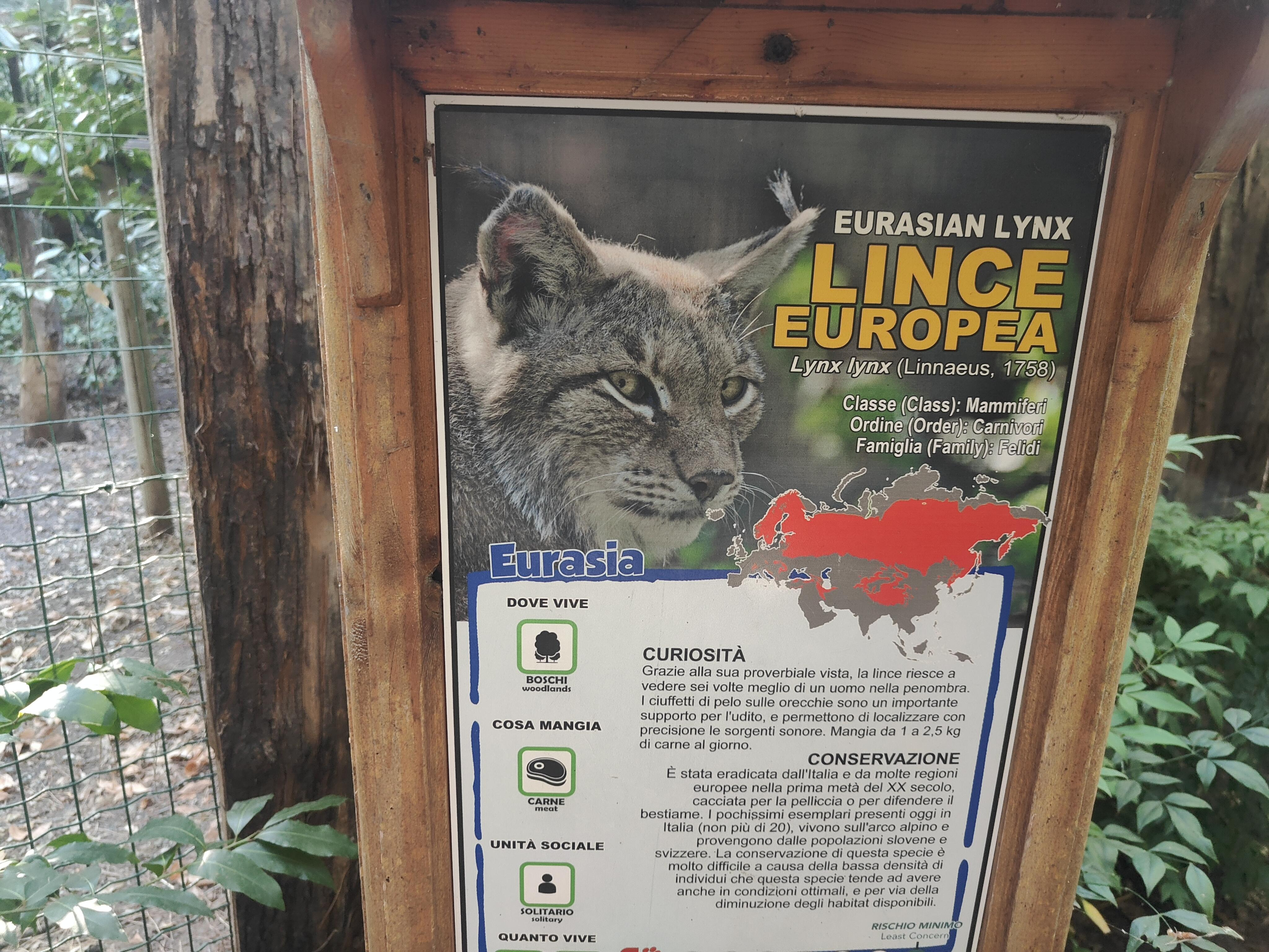cat: (445, 166, 826, 620)
